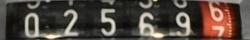digits: (200, 5, 230, 40), (168, 12, 190, 35), (99, 8, 116, 36), (62, 9, 79, 34), (24, 12, 39, 36), (138, 12, 154, 34)
